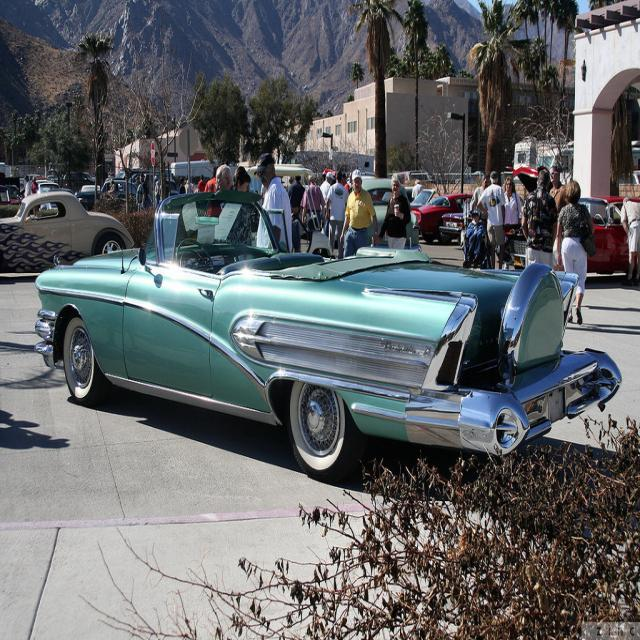car: (44, 205, 602, 490)
